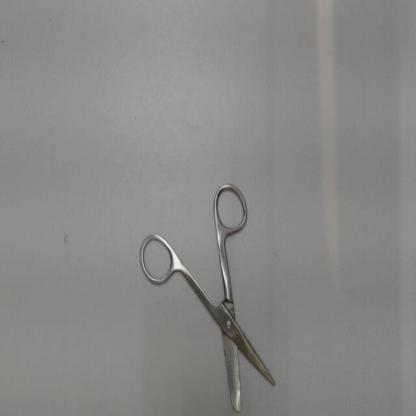Dressing Scissors: (128, 171, 281, 415)
